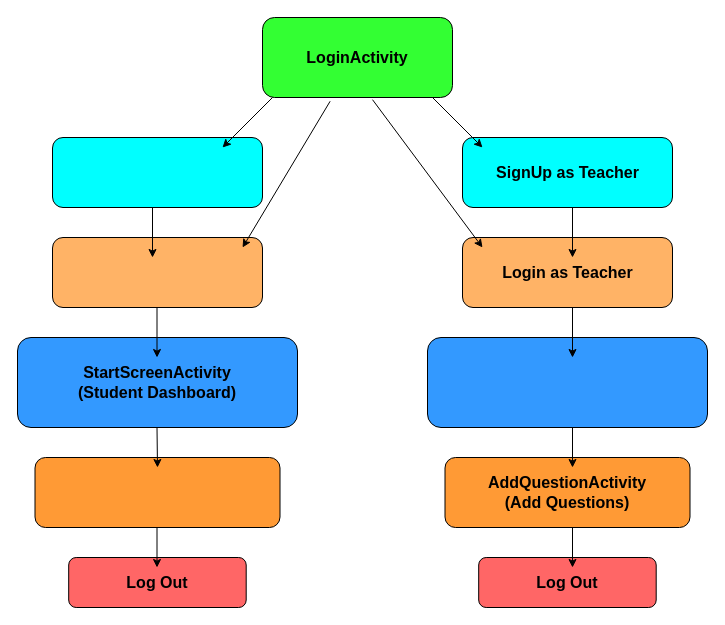
Some shapes in this 725 by 625 pixel diagram are drawn without their labels. The shapes that lost their labels are listed below. From the top down, each one's centre as x and y in pixels, then its label:
(157,172): SignUp as Student
(157,272): Login as Student
(567,382): TeacherScreenActivity (Teacher Dashboard)
(157,492): QuizActivity (QuizScreen)
